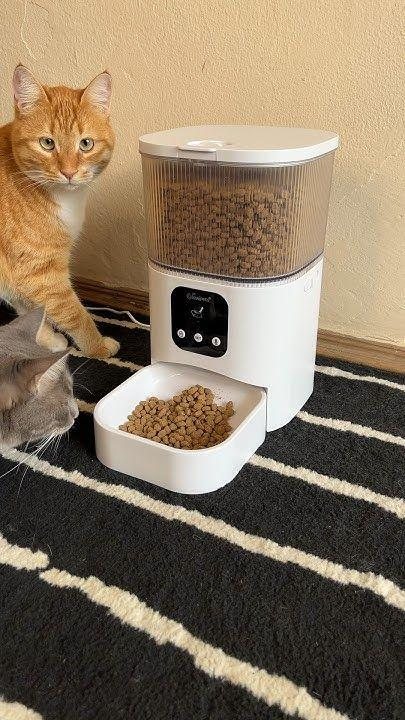kedo: (3, 60, 121, 358)
